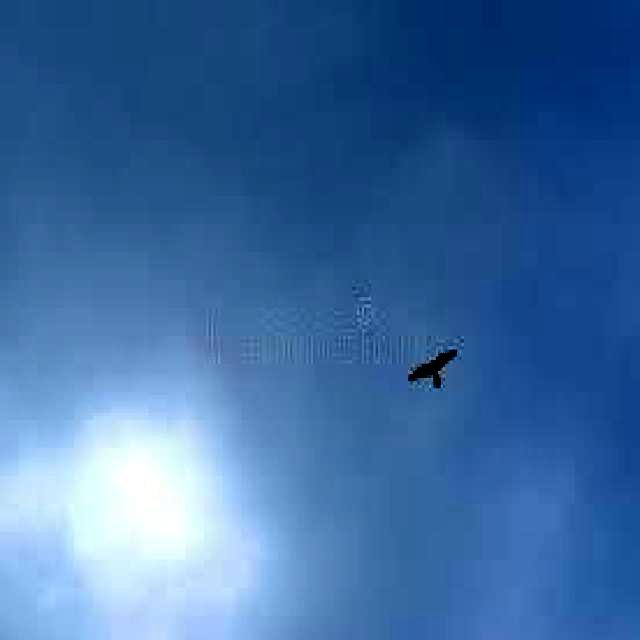bird: (399, 345, 463, 390)
